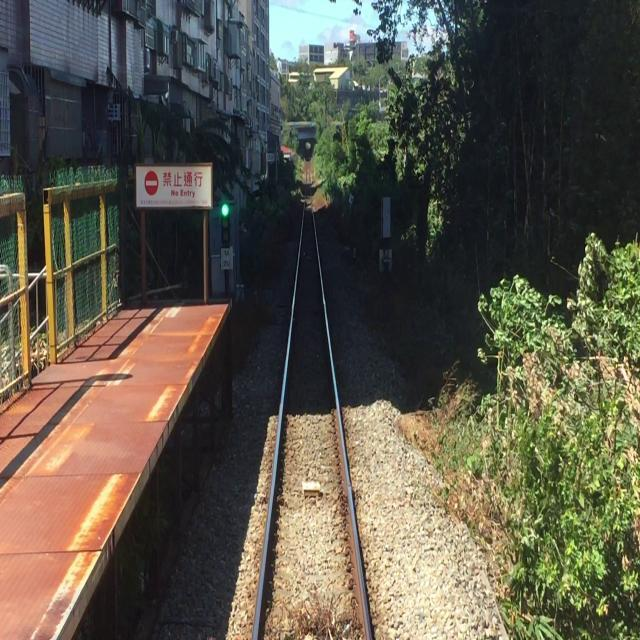rail: (201, 147, 421, 639)
